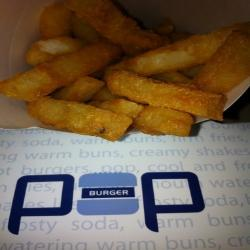fries: (15, 4, 250, 146)
